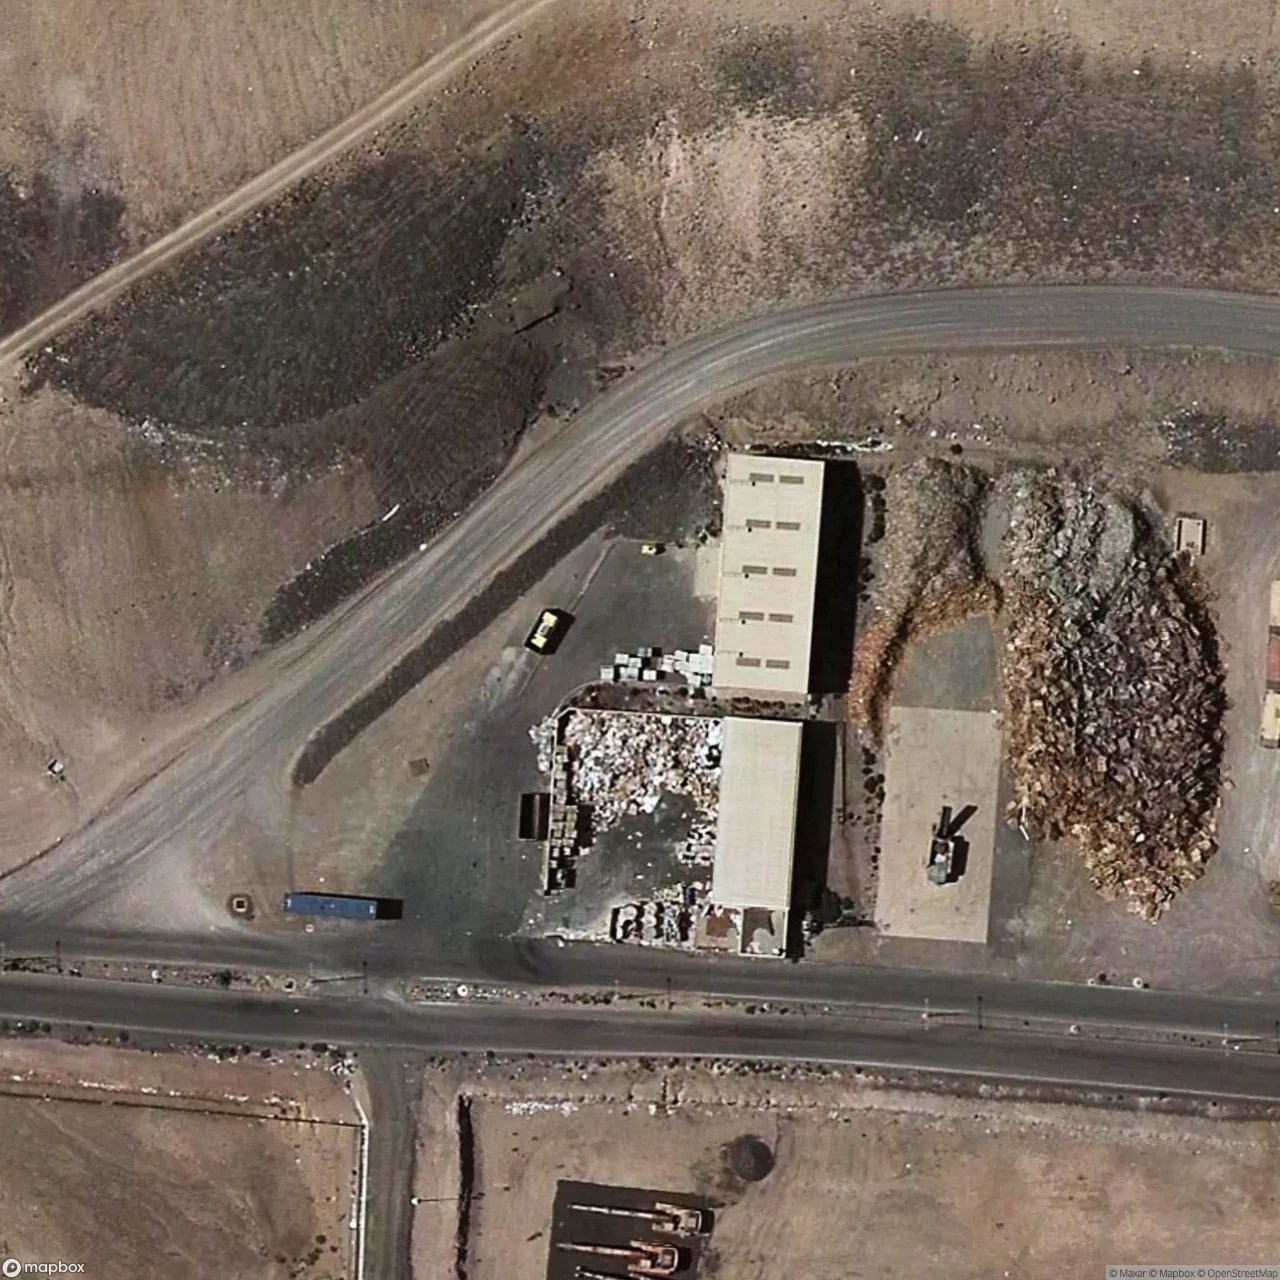dump_site: (1005, 475, 1238, 938), (566, 712, 721, 833)
